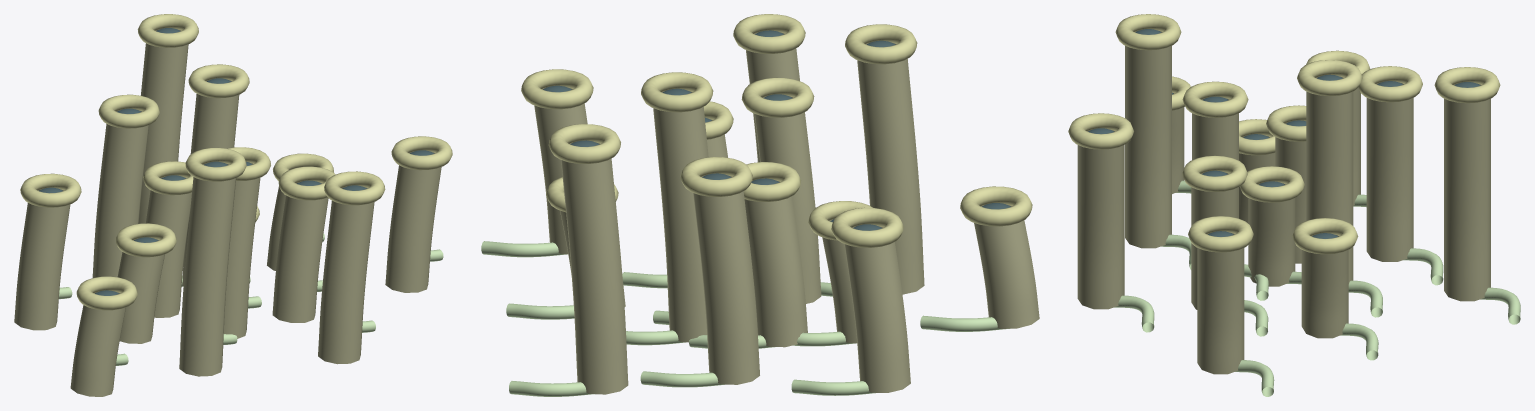
File: bio_thermal_colony_21_near.glb
3 renders of one model, left to right at view 1: azimuth 30°, elevation 25°; view 2: azimuth 150°, elevation 25°; view 3: azimuth 270°, elevation 25°, orthographic. The views are drawn at different scales.
Parts seen in each view (by area): view 1: Chimney biofilm.007, Chimney biofilm.010, Chimney biofilm.006, Chimney biofilm.009, Chimney biofilm.013, Chimney biofilm.005, Chimney biofilm.011, Chimney biofilm.012, Chimney biofilm.002, Chimney biofilm.001, Chimney biofilm.004, Chimney biofilm.003 (+14 smaller); view 2: Chimney biofilm.011, Chimney biofilm.006, Chimney biofilm.007, Chimney biofilm.003, Chimney biofilm.009, Chimney biofilm.001, Chimney biofilm.012, Chimney biofilm.002, Chimney biofilm.013, Open vent rim.012, Open vent rim.002, Open vent rim.003 (+21 smaller); view 3: Chimney biofilm.011, Chimney biofilm.007, Chimney biofilm.010, Chimney biofilm.006, Chimney biofilm.003, Chimney biofilm.013, Chimney biofilm.008, Chimney biofilm, Chimney biofilm.002, Open vent rim.008, Open vent rim.010, Open vent rim.013 (+24 smaller).
Part boxes in pixels (bbox=[...]): Chimney biofilm.007: bbox=[179, 164, 236, 376]; Chimney biofilm.010: bbox=[318, 187, 374, 364]; Chimney biofilm.006: bbox=[92, 111, 148, 277]; Chimney biofilm.009: bbox=[14, 189, 70, 330]; Chimney biofilm.013: bbox=[385, 152, 441, 292]; Chimney biofilm.005: bbox=[272, 182, 328, 322]; Chimney biofilm.011: bbox=[138, 30, 188, 223]; Chimney biofilm.012: bbox=[70, 292, 125, 396]; Chimney biofilm.002: bbox=[223, 163, 260, 338]; Chimney biofilm.001: bbox=[145, 177, 191, 317]; Chimney biofilm.004: bbox=[117, 239, 164, 343]; Chimney biofilm.003: bbox=[182, 80, 239, 285]; Chimney biofilm.011: bbox=[561, 143, 628, 394]; Chimney biofilm.006: bbox=[693, 176, 759, 384]; Chimney biofilm.007: bbox=[857, 43, 924, 294]; Chimney biofilm.003: bbox=[653, 91, 708, 342]; Chimney biofilm.009: bbox=[844, 226, 910, 392]; Chimney biofilm.001: bbox=[744, 181, 807, 347]; Chimney biofilm.012: bbox=[974, 205, 1039, 328]; Chimney biofilm.002: bbox=[754, 96, 821, 303]; Chimney biofilm.013: bbox=[534, 88, 587, 254]; Open vent rim.012: bbox=[960, 186, 1032, 226]; Open vent rim.002: bbox=[741, 77, 814, 117]; Open vent rim.003: bbox=[641, 72, 713, 112]; Chimney biofilm.011: bbox=[1444, 84, 1490, 301]; Chimney biofilm.007: bbox=[1125, 31, 1171, 248]; Chimney biofilm.010: bbox=[1077, 130, 1124, 309]; Chimney biofilm.006: bbox=[1366, 83, 1413, 261]; Chimney biofilm.003: bbox=[1306, 77, 1353, 283]; Chimney biofilm.013: bbox=[1197, 233, 1244, 374]; Chimney biofilm.008: bbox=[1301, 235, 1348, 338]; Chimney biofilm: bbox=[1248, 183, 1295, 286]; Chimney biofilm.002: bbox=[1192, 99, 1238, 218]; Open vent rim.008: bbox=[1292, 218, 1358, 254]; Open vent rim.010: bbox=[1068, 113, 1133, 149]; Open vent rim.013: bbox=[1188, 216, 1253, 252].
Size of the model in its own units: 2.19 by 1.07 by 1.92.
